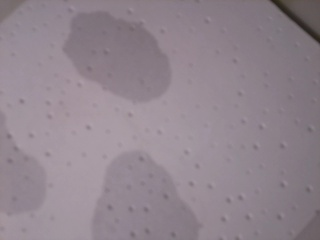Water_detected: (104, 158, 182, 240), (78, 21, 158, 83), (0, 140, 34, 189)
